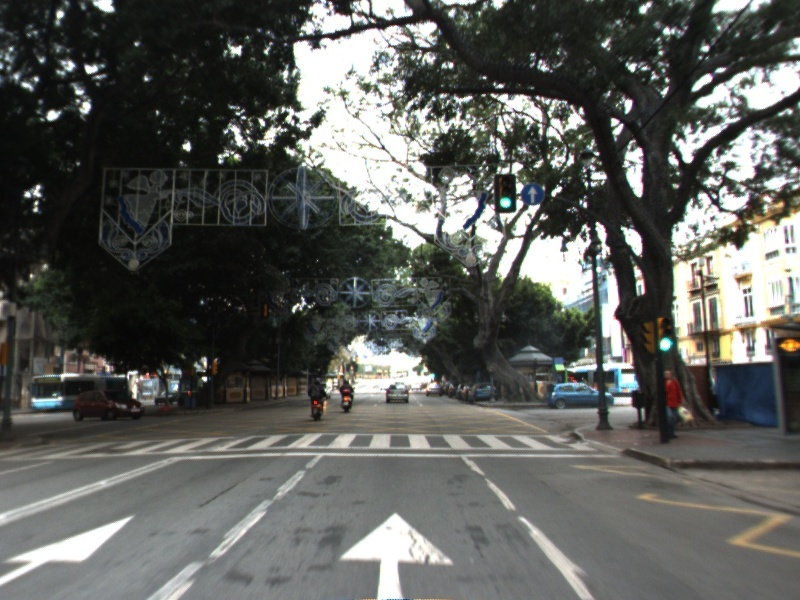STRAIGHT: (334, 507, 457, 600), (1, 511, 141, 588)
